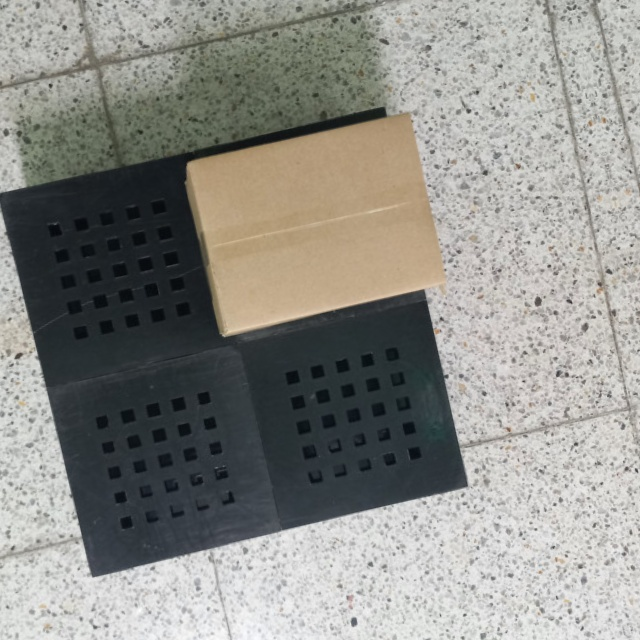box: (178, 108, 449, 342)
pallet: (0, 97, 483, 581)
